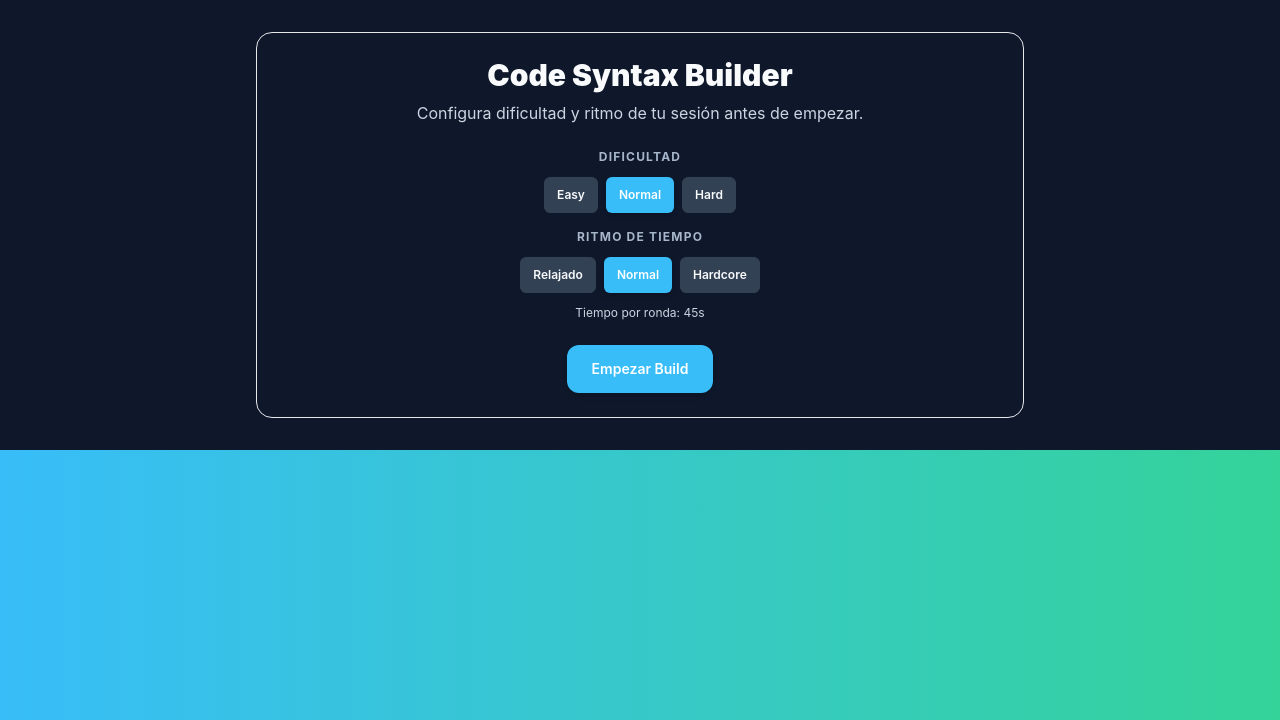
it: CodeSyntaxBuilderView › auto-downshifts difficulty after 3 timeouts and logs cause
The width and height of the screenshot is (1280, 720).
Click the button "Empezar Build": {"x": 640, "y": 369} [567, 345, 713, 393]
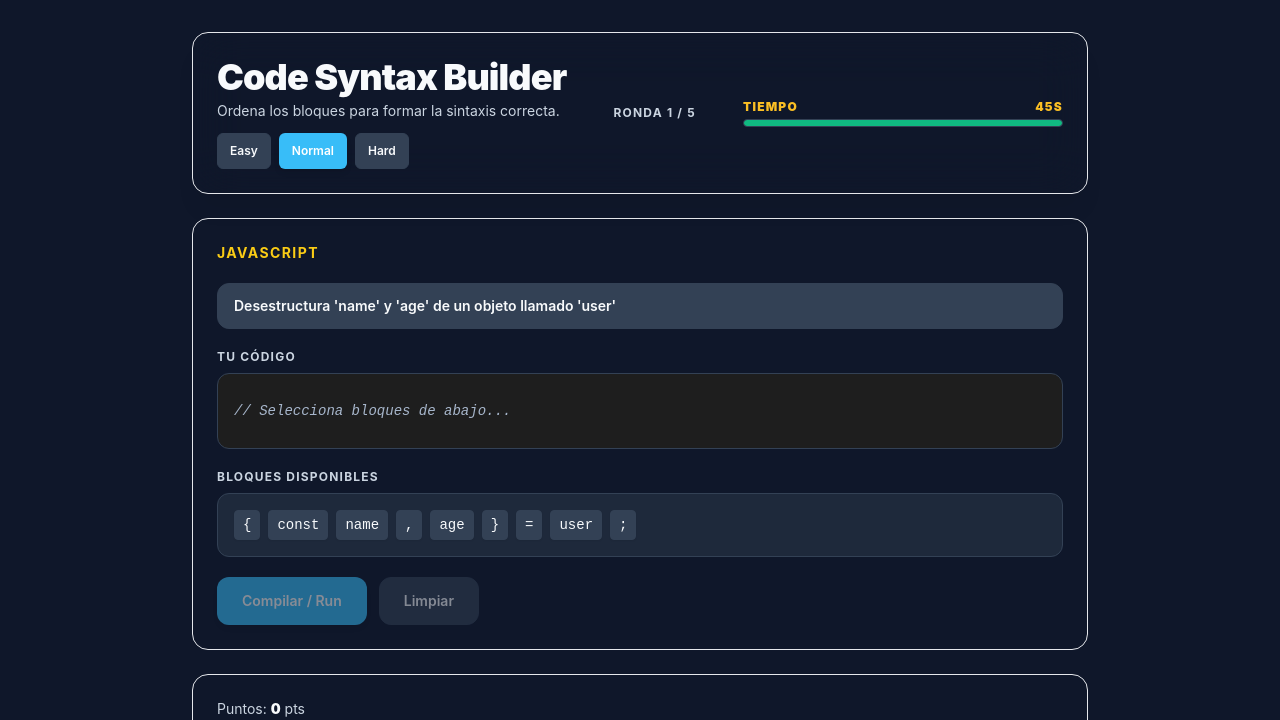
Click the button with aria-label "Set code syntax level Hard": {"x": 382, "y": 151} [355, 133, 409, 169]
Wait 36000 ms
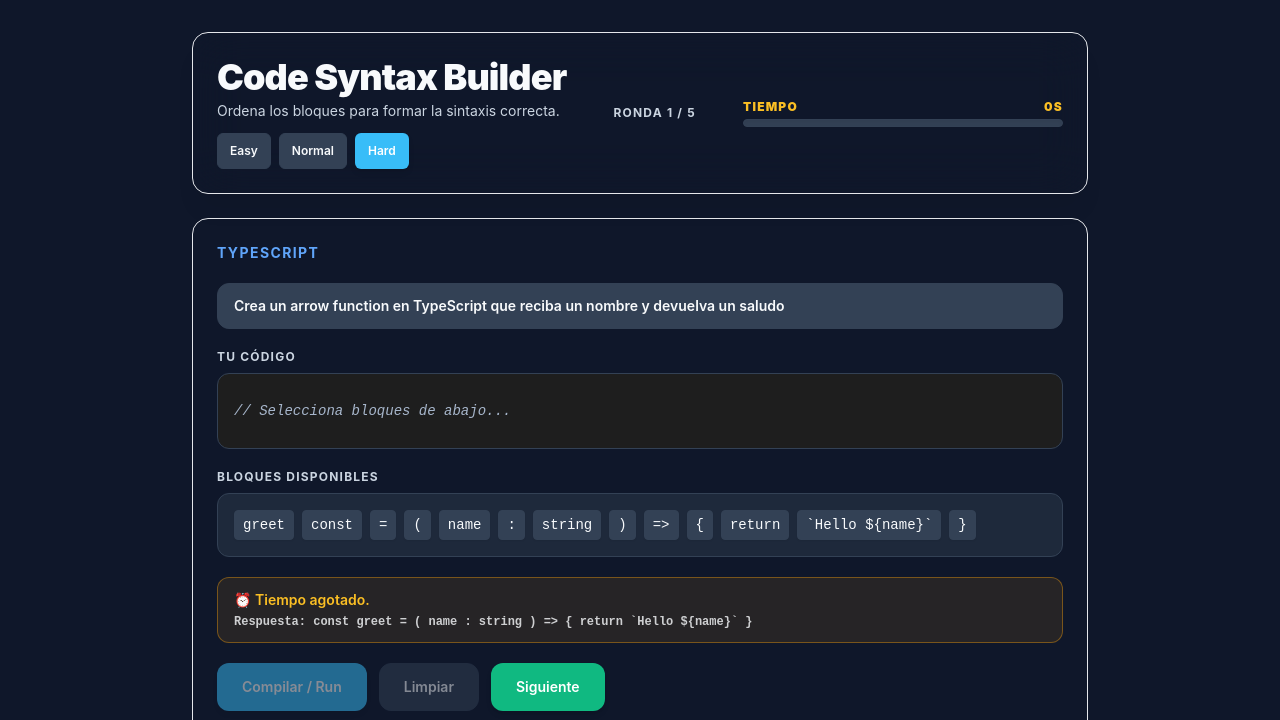
Expected: the text "35s" is shown, [1044, 99, 1063, 115]
Click the button "Siguiente": {"x": 548, "y": 687} [491, 663, 605, 711]
Wait 36000 ms
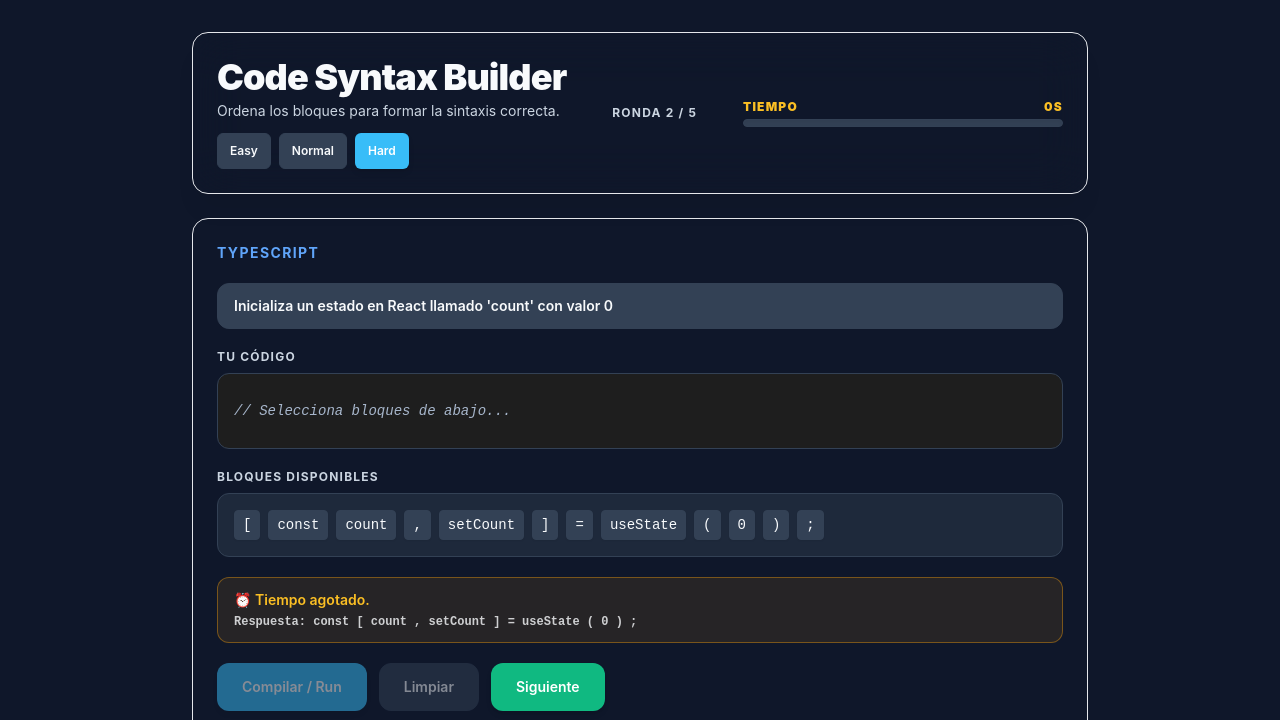
Click the button "Siguiente": {"x": 548, "y": 687} [491, 663, 605, 711]
Wait 36000 ms
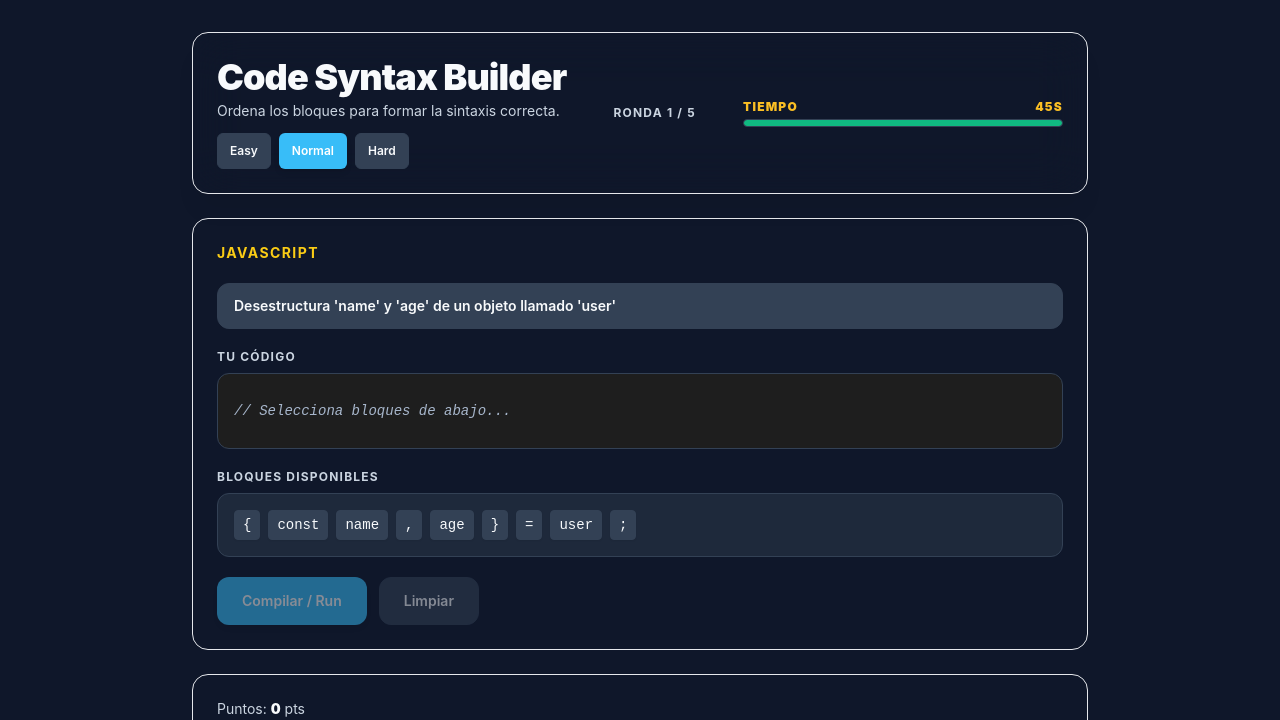
Expected: the text "45s" is shown, [1035, 99, 1063, 115]
